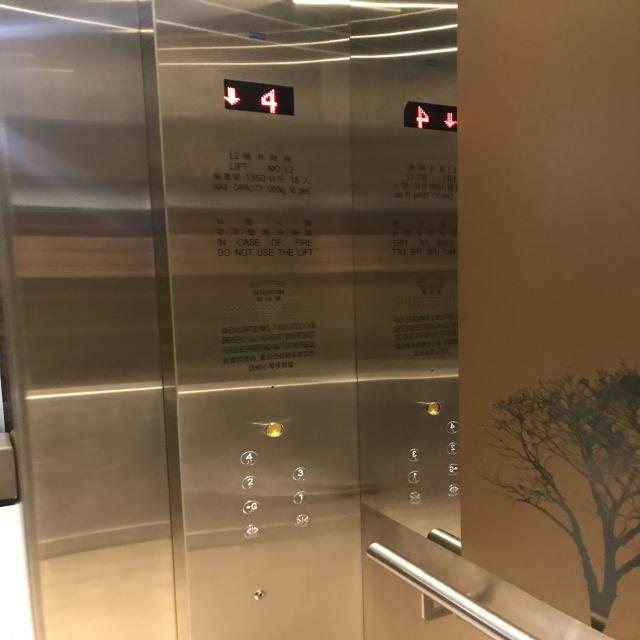1: (291, 490, 310, 504)
2: (240, 475, 259, 490)
3: (290, 466, 310, 482)
4: (239, 450, 258, 466)
alarm: (264, 422, 285, 438), (424, 401, 442, 415)
close: (292, 514, 310, 528), (407, 492, 421, 504)
open: (242, 524, 260, 540), (446, 484, 460, 496)
sG: (242, 499, 260, 515)
unknown: (406, 469, 422, 484), (406, 448, 422, 462), (446, 462, 461, 476), (445, 421, 460, 434), (446, 442, 460, 454)
